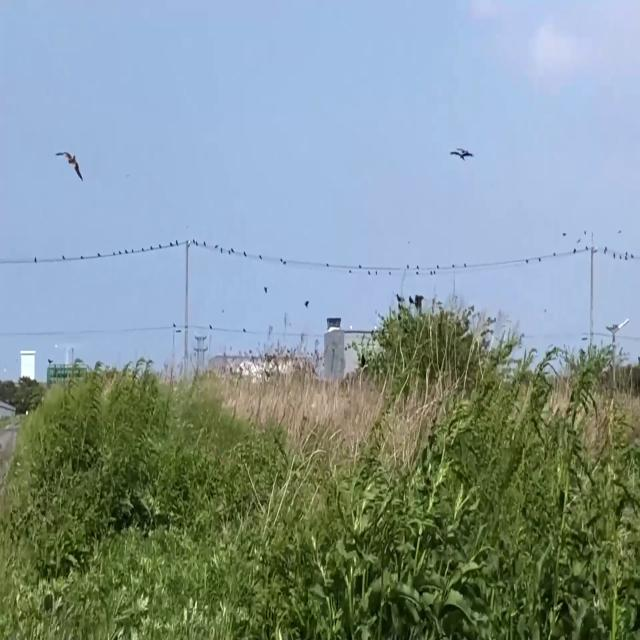bird: (54, 136, 84, 196), (450, 134, 474, 173)
